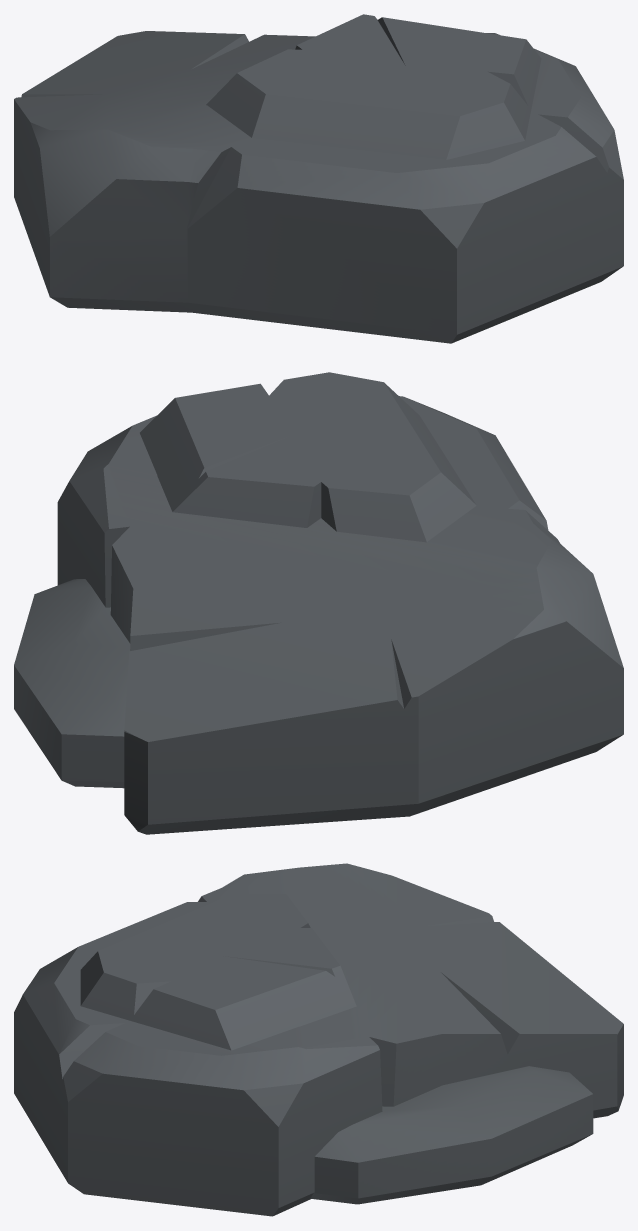
The model's file is Rock_9.fbx.
The picture shows the model from 3 angles, top to bottom: view 1: azimuth 30°, elevation 25°; view 2: azimuth 150°, elevation 25°; view 3: azimuth 270°, elevation 25°; orthographic projection. The views are drawn at different scales.
Visible parts, largest first — view 1: Rock_9; view 2: Rock_9; view 3: Rock_9.
Part boxes in pixels (left/top/right/bottom): Rock_9: left=14, top=14, right=623, bottom=343; Rock_9: left=14, top=372, right=623, bottom=834; Rock_9: left=14, top=863, right=623, bottom=1216.
Size of the model in its own units: 267 by 99.59 by 290.
